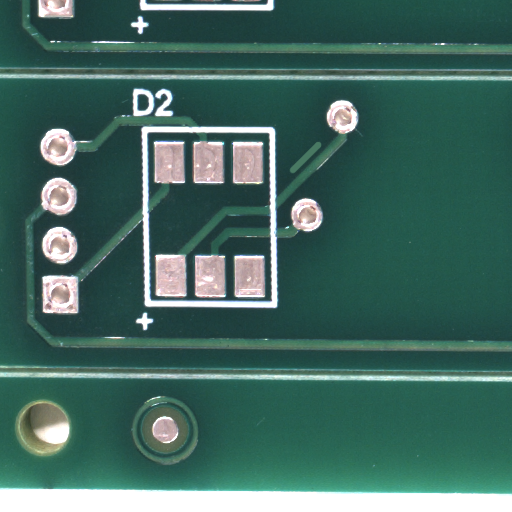Spurious_copper: (305, 157, 338, 190)
